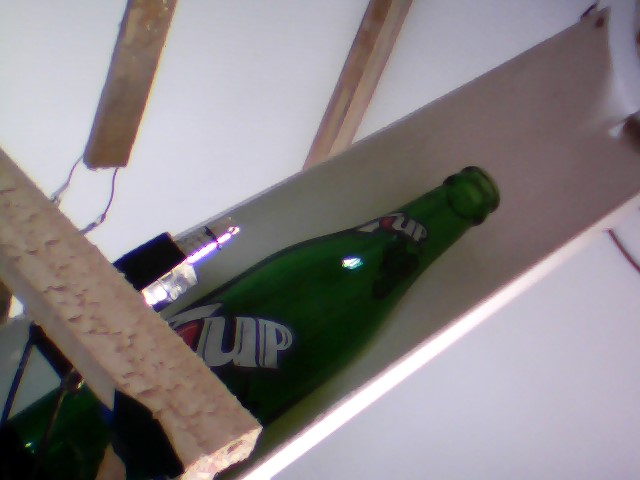vidrio: (167, 156, 507, 425)
